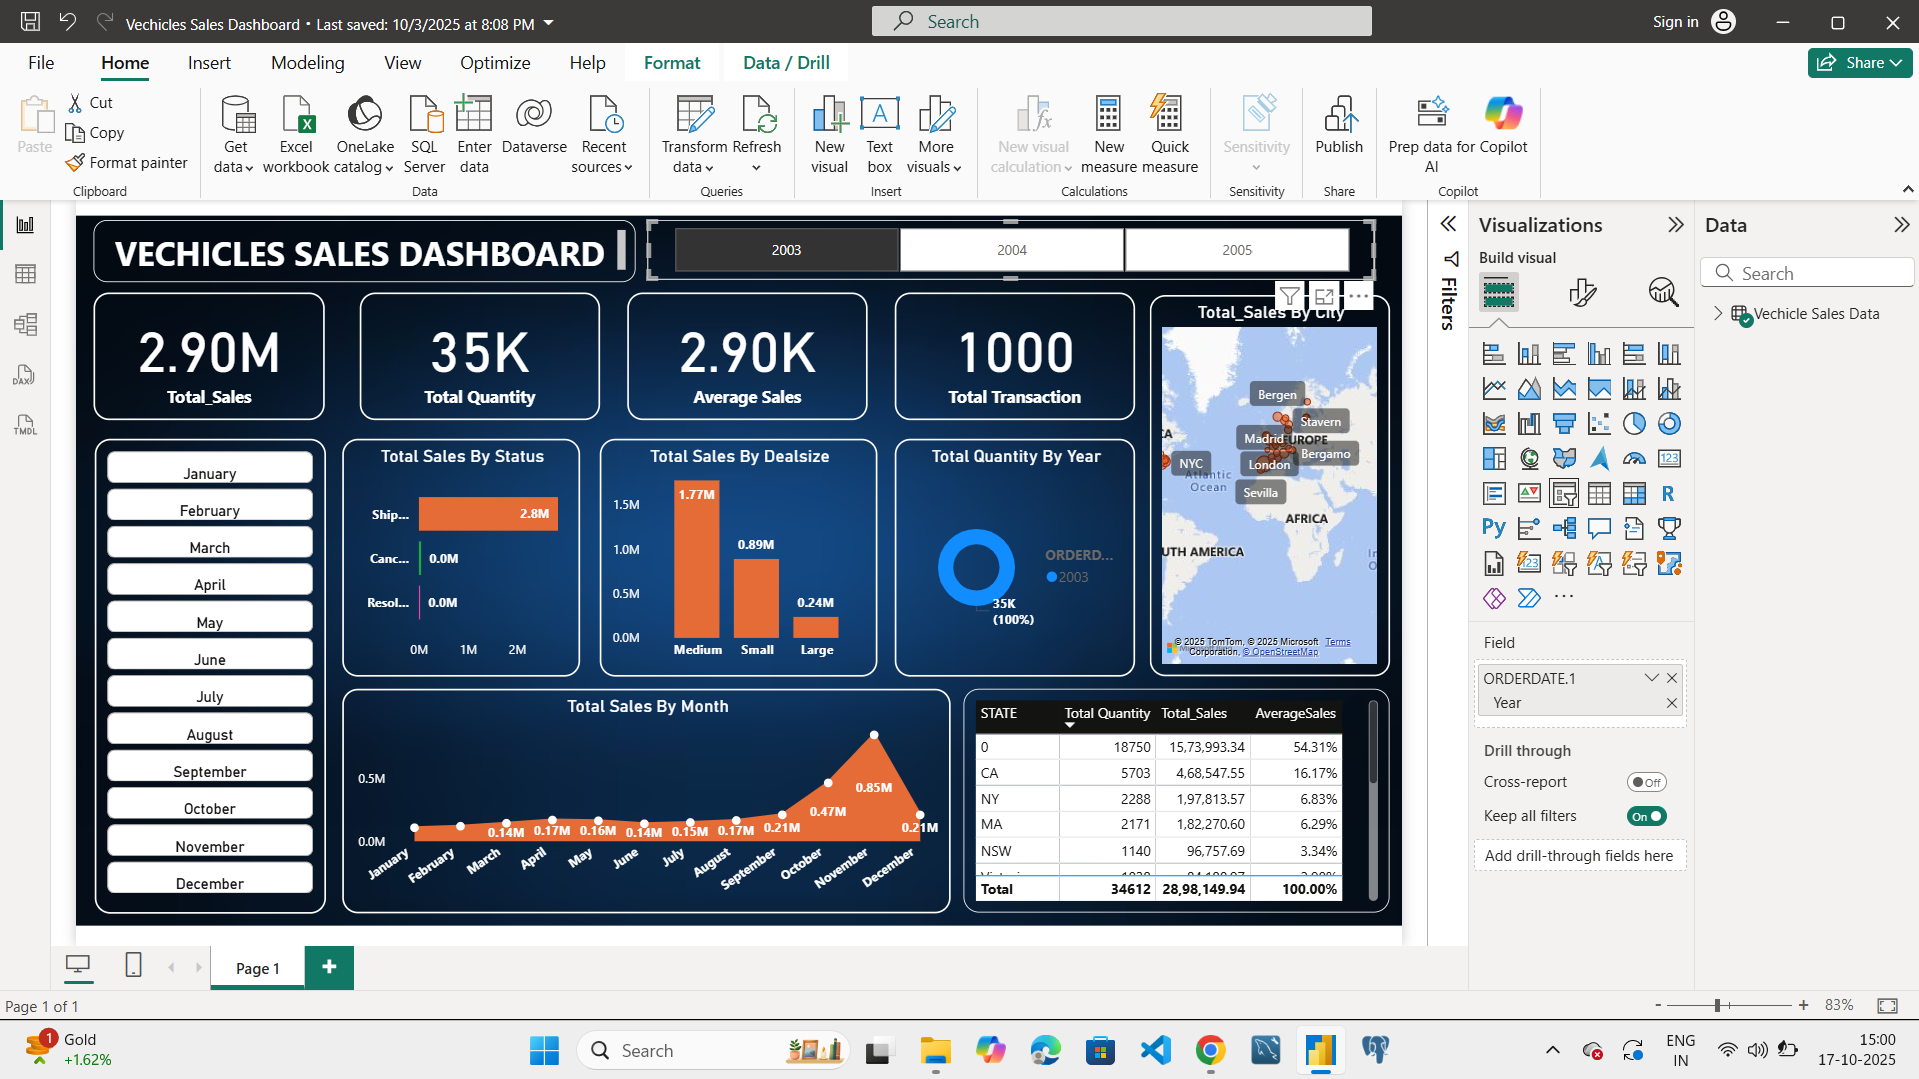

What the dashboard file says about the page in this screenshot:
{"tool":"powerbi","page":{"name":"Page 1","canvas":[1280,720],"ordinal":0},"visuals":[{"type":"textbox","box":[16.9,19.3,523.6,60.3],"z":0},{"type":"card","fields":{"Values":["Vechicle Sales Data.Total_Sales"]},"box":[16.9,89.3,223.2,123.1],"z":1000},{"type":"card","fields":{"Values":["Sum(Vechicle Sales Data.QUANTITYORDERED)"]},"box":[273.9,89.3,231.6,123.1],"z":2000},{"type":"card","fields":{"Values":["Avg(Vechicle Sales Data.Total Sales)"]},"box":[532,89.3,231.6,123.1],"z":3000},{"type":"card","fields":{"Values":["Vechicle Sales Data.Total Transaction"]},"box":[790.2,89.3,231.6,123.1],"z":4000},{"type":"barChart","title":"Total Sales By Status","fields":{"Category":["Vechicle Sales Data.STATUS"],"Y":["Vechicle Sales Data.Total_Sales"]},"box":[257,230.4,229.2,229.2],"z":5000},{"type":"stackedAreaChart","title":"Total Sales By Month","fields":{"Y":["Sum(Vechicle Sales Data.Total Sales)"],"Category":["Vechicle Sales Data.ORDERDATE.1.Variation.Date Hierarchy.Month"]},"box":[257,471.7,587.5,217.2],"z":6000},{"type":"columnChart","title":"Total Sales By Dealsize","fields":{"Y":["Sum(Vechicle Sales Data.Total Sales)"],"Category":["Vechicle Sales Data.DEALSIZE"]},"box":[505.5,230.4,267.8,229.2],"z":7000},{"type":"donutChart","title":"Total Quantity By Year","fields":{"Y":["Sum(Vechicle Sales Data.QUANTITYORDERED)"],"Category":["Vechicle Sales Data.ORDERDATE.1.Variation.Date Hierarchy.Year"]},"box":[790.2,230.4,231.6,229.2],"z":8000},{"type":"map","title":"Total_Sales By City","fields":{"Category":["Vechicle Sales Data.CITY"],"Size":["Vechicle Sales Data.Total_Sales"]},"box":[1036.3,91.7,231.6,368],"z":9000},{"type":"tableEx","fields":{"Values":["Vechicle Sales Data.STATE","Sum(Vechicle Sales Data.QUANTITYORDERED)","Vechicle Sales Data.Total_Sales","Vechicle Sales Data.AverageSales"]},"box":[856.6,471.7,411.4,216],"z":10000},{"type":"slicer","fields":{"Values":["Vechicle Sales Data.ORDERDATE.1.Variation.Date Hierarchy.Year"]},"box":[551.3,19.3,702.1,57.9],"z":10001},{"type":"advancedSlicerVisual","fields":{"Values":["Vechicle Sales Data.ORDERDATE.1.Variation.Date Hierarchy.Month"]},"box":[18.1,230.4,223.2,458.4],"z":10002}]}

Visuals, with their boxes on the page's 1280x720 design canvas (x1, y1, x2, y2). These are canvas units, not pixel positions in the 1919x1079 screenshot, which may show the page scaled, cropped or inside an application window:
textbox: (17,19,540,80)
card - Vechicle Sales Data.Total_Sales: (17,89,240,212)
card - Sum(Vechicle Sales Data.QUANTITYORDERED): (274,89,506,212)
card - Avg(Vechicle Sales Data.Total Sales): (532,89,764,212)
card - Vechicle Sales Data.Total Transaction: (790,89,1022,212)
"Total Sales By Status" barChart: (257,230,486,460)
"Total Sales By Month" stackedAreaChart: (257,472,844,689)
"Total Sales By Dealsize" columnChart: (506,230,773,460)
"Total Quantity By Year" donutChart: (790,230,1022,460)
"Total_Sales By City" map: (1036,92,1268,460)
tableEx - Vechicle Sales Data.STATE x Sum(Vechicle Sales Data.QUANTITYORDERED): (857,472,1268,688)
slicer - Vechicle Sales Data.ORDERDATE.1.Variation.Date Hierarchy.Year: (551,19,1253,77)
advancedSlicerVisual - Vechicle Sales Data.ORDERDATE.1.Variation.Date Hierarchy.Month: (18,230,241,689)
